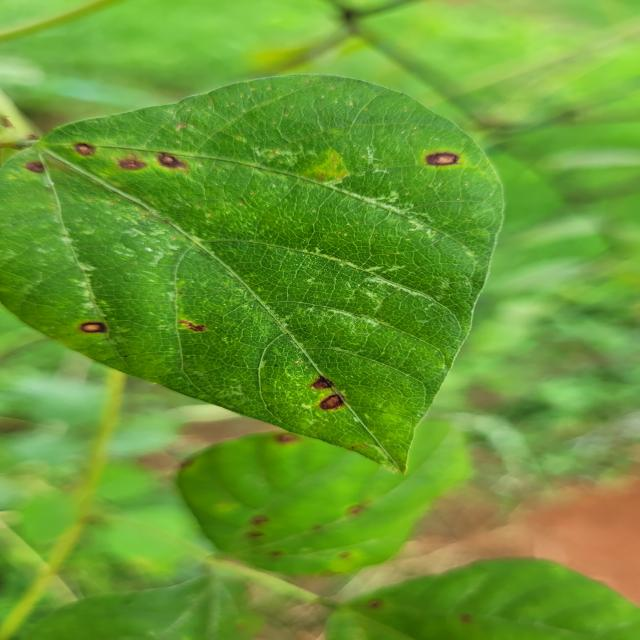Dolicos bean_cercospora leaf spot: (2, 74, 505, 475), (158, 408, 458, 572)
